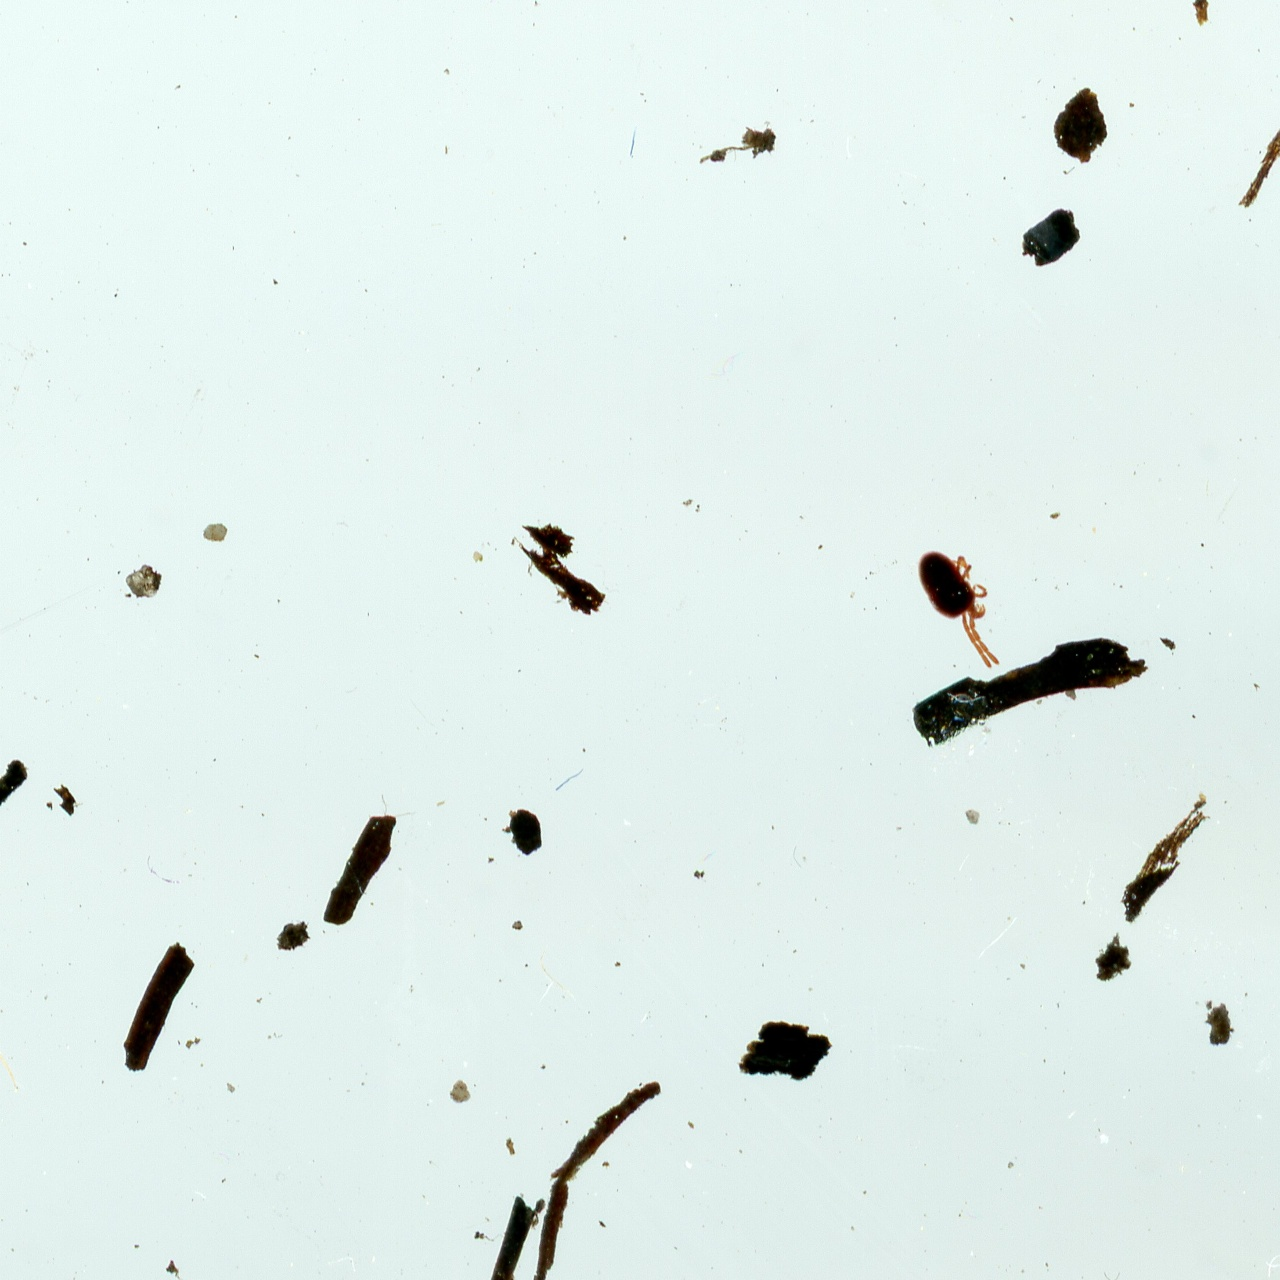arthropod: (914, 546, 1016, 669)
